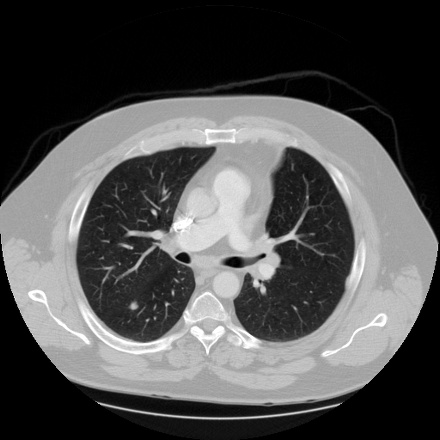PN: (129, 302, 137, 310)
